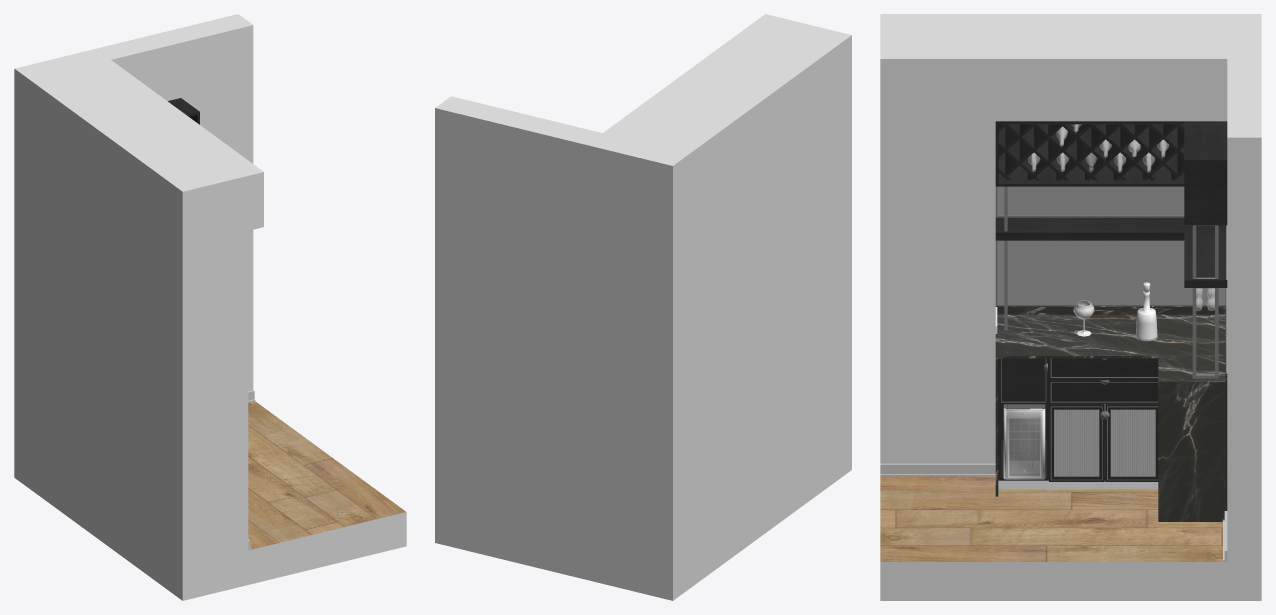
Rendered from AR_Minibar.glb.
The picture shows the model from 3 angles, left to right: view 1: azimuth 30°, elevation 25°; view 2: azimuth 150°, elevation 25°; view 3: azimuth 270°, elevation 25°; orthographic projection. The views are drawn at different scales.
Visible parts, largest first — view 1: _G-Object.001 (Loose Mesh), G-Object; view 2: _G-Object.001 (Loose Mesh), G-Object; view 3: _G-Object.001 (Loose Mesh), G-Object, G-Object.094, Cube.008, Cube.007, G-Object.098, Plane.047, Electrolux wine cellar 34 bottles.001, Cube.012, Cube.014, _C-cajon alto#5 (Loose Mesh).001, Plane.039 (+29 smaller).
Boxes of the visible parts, x1,y1,x2,y2 form: _G-Object.001 (Loose Mesh): [14, 14, 263, 566]; G-Object: [14, 401, 406, 600]; _G-Object.001 (Loose Mesh): [435, 14, 851, 564]; G-Object: [435, 433, 851, 600]; _G-Object.001 (Loose Mesh): [880, 14, 1261, 561]; G-Object: [880, 476, 1261, 600]; G-Object.094: [995, 314, 1227, 521]; Cube.008: [997, 240, 1225, 303]; Cube.007: [997, 186, 1184, 215]; G-Object.098: [995, 217, 1226, 240]; Plane.047: [995, 121, 1184, 186]; Electrolux wine cellar 34 bottles.001: [1003, 404, 1045, 479]; Cube.012: [1054, 409, 1099, 476]; Cube.014: [1110, 409, 1155, 476]; _C-cajon alto#5 (Loose Mesh).001: [1049, 380, 1158, 403]; Plane.039: [1184, 163, 1224, 222].
Size of the model in its own units: 1.7 by 2.97 by 2.22.
18 materials, 6 textured.
